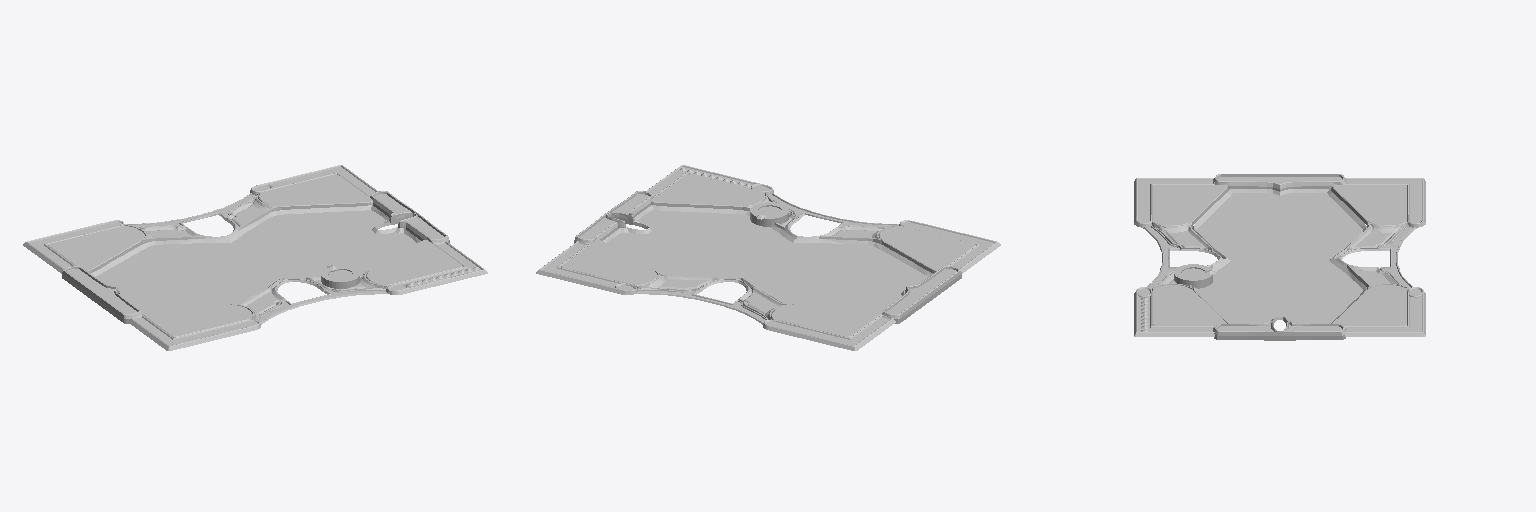
The model's file is 3D_Speelbord KLAAR.obj.
3 renders of one model, left to right at view 1: azimuth 30°, elevation 25°; view 2: azimuth 150°, elevation 25°; view 3: azimuth 270°, elevation 25°, orthographic.
Visible parts, largest first — view 1: Mesh2; view 2: Mesh2; view 3: Mesh2.
Boxes of the visible parts, x1,y1,x2,y2 form: Mesh2: [23, 165, 487, 350]; Mesh2: [536, 165, 1000, 350]; Mesh2: [1134, 174, 1425, 340].
Bounding box in the file's own units: 13.71 × 0.4788 × 10.64.